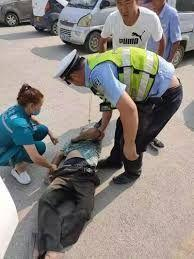Fall-Detected: (22, 107, 107, 258)
